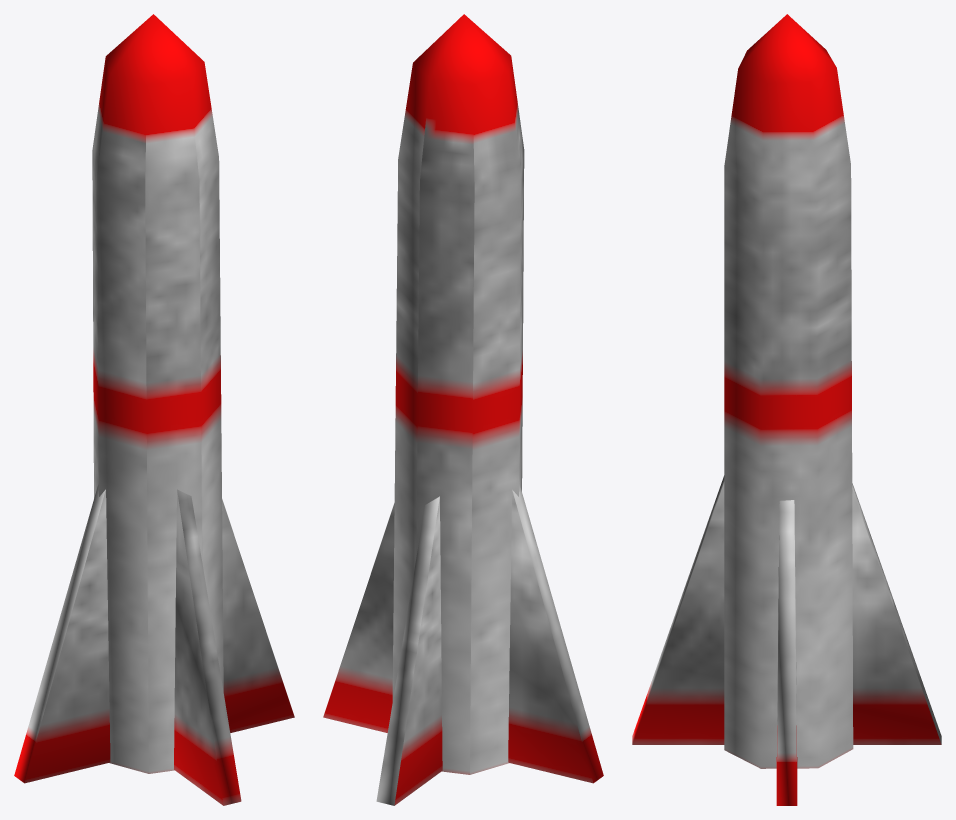
Rendered from rocket.fbx.
3 renders of one model, left to right at view 1: azimuth 30°, elevation 25°; view 2: azimuth 150°, elevation 25°; view 3: azimuth 270°, elevation 25°, orthographic.
Visible parts, largest first — view 1: polySurface6; view 2: polySurface6; view 3: polySurface6.
Boxes of the visible parts, x1,y1,x2,y2 form: polySurface6: [14, 14, 294, 805]; polySurface6: [323, 14, 603, 805]; polySurface6: [632, 14, 941, 805].
Size of the model in its own units: 0.1239 by 0.3214 by 0.1239.
1 material, 1 textured.
